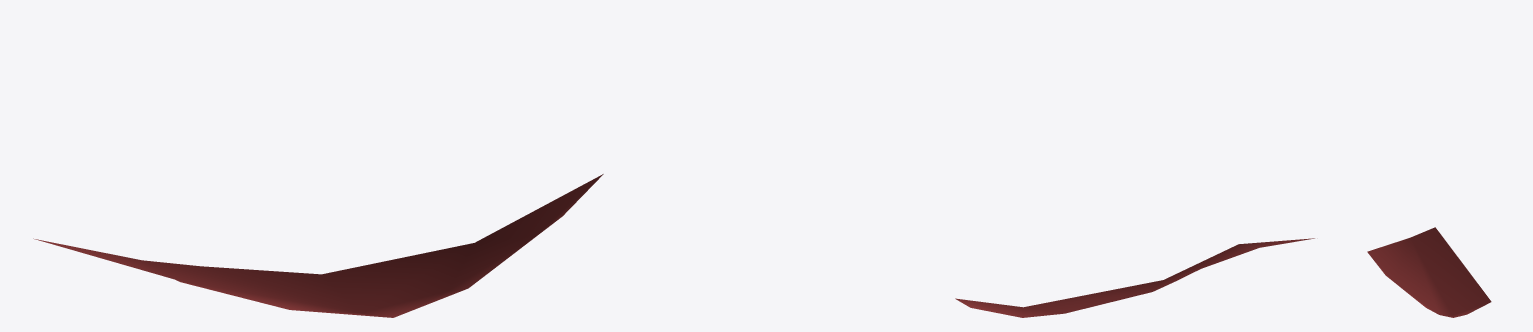
Rendered from patellar-ligament-ol.glb.
3 views of the same model, side by side, from view 1: azimuth 30°, elevation 25°; view 2: azimuth 150°, elevation 25°; view 3: azimuth 270°, elevation 25° (orthographic). The views are drawn at different scales.
Visible parts, largest first — view 1: Patellar ligament.ol; view 2: Patellar ligament.ol; view 3: Patellar ligament.ol.
Part boxes in pixels (box(x1,y1,x2,y2)): Patellar ligament.ol: box(33, 174, 603, 317); Patellar ligament.ol: box(955, 238, 1314, 317); Patellar ligament.ol: box(1367, 227, 1491, 317).
Size of the model in its own units: 0.0298 by 0.00999 by 0.00747.
